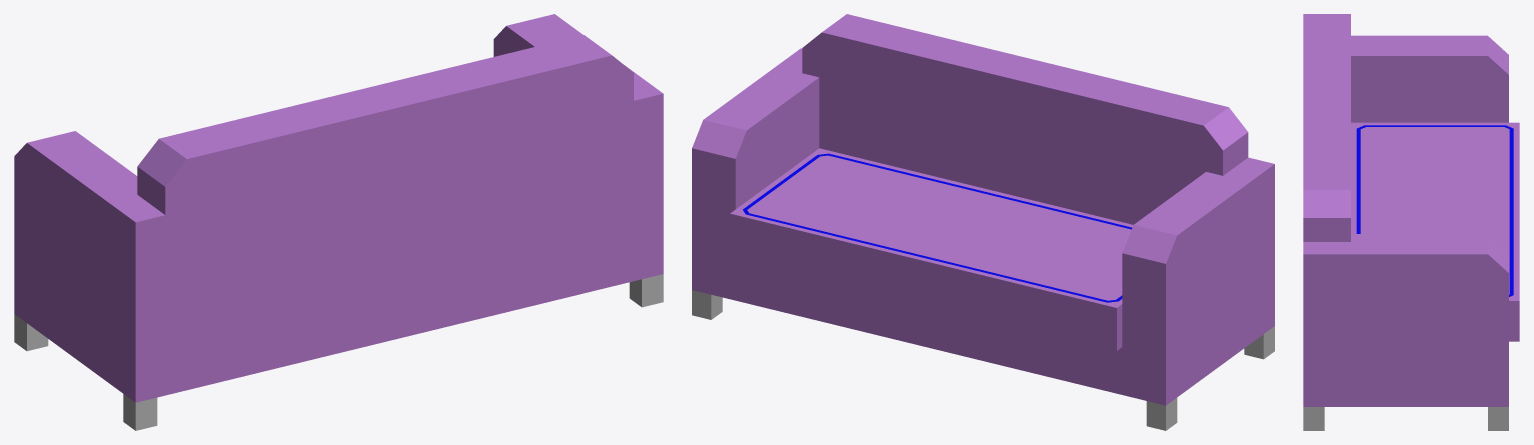
The model's file is loungeSofa.glb.
3 renders of one model, left to right at view 1: azimuth 30°, elevation 25°; view 2: azimuth 150°, elevation 25°; view 3: azimuth 270°, elevation 25°, orthographic. The views are drawn at different scales.
Parts seen in each view (by area): view 1: loungeSofa; view 2: loungeSofa; view 3: loungeSofa.
Part boxes in pixels (bbox=[...]): loungeSofa: bbox=[14, 14, 663, 430]; loungeSofa: bbox=[692, 14, 1274, 430]; loungeSofa: bbox=[1303, 14, 1519, 430].
Size of the model in its own units: 2.25 by 1.06 by 0.9409.
